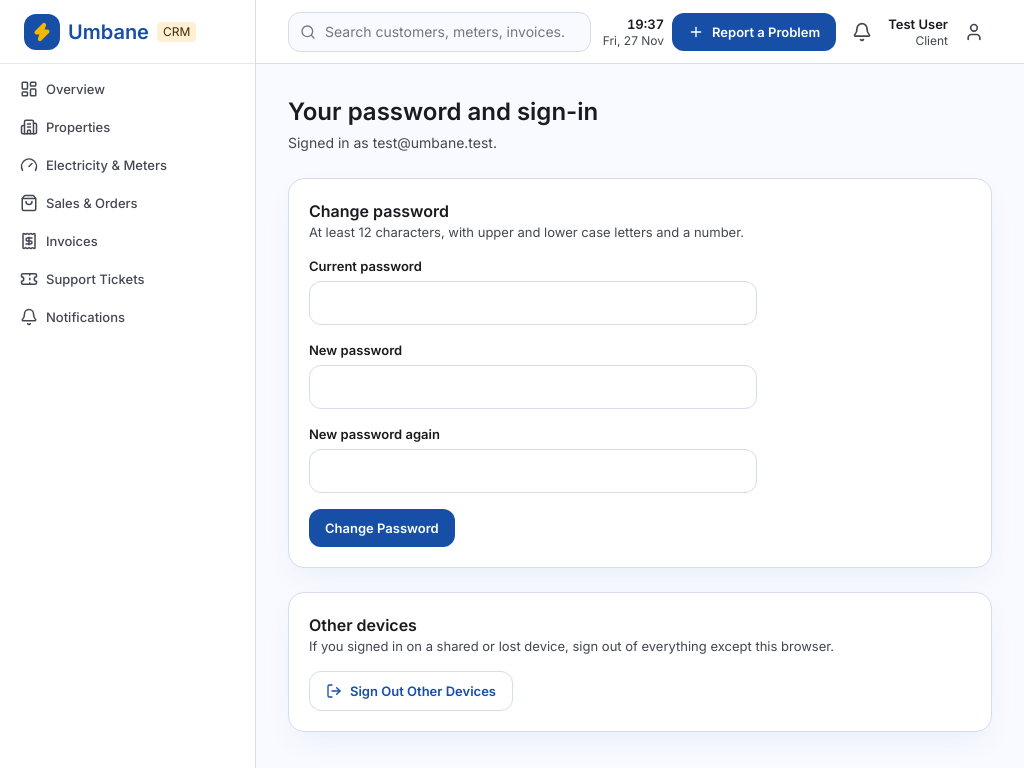
Test case: password and sign-in › is open to every role, and checks the new password first
Type "Old-pass-123" into the password field labelled "Current password" at [533, 303], box top-left (309, 281), bottom-right (757, 325)
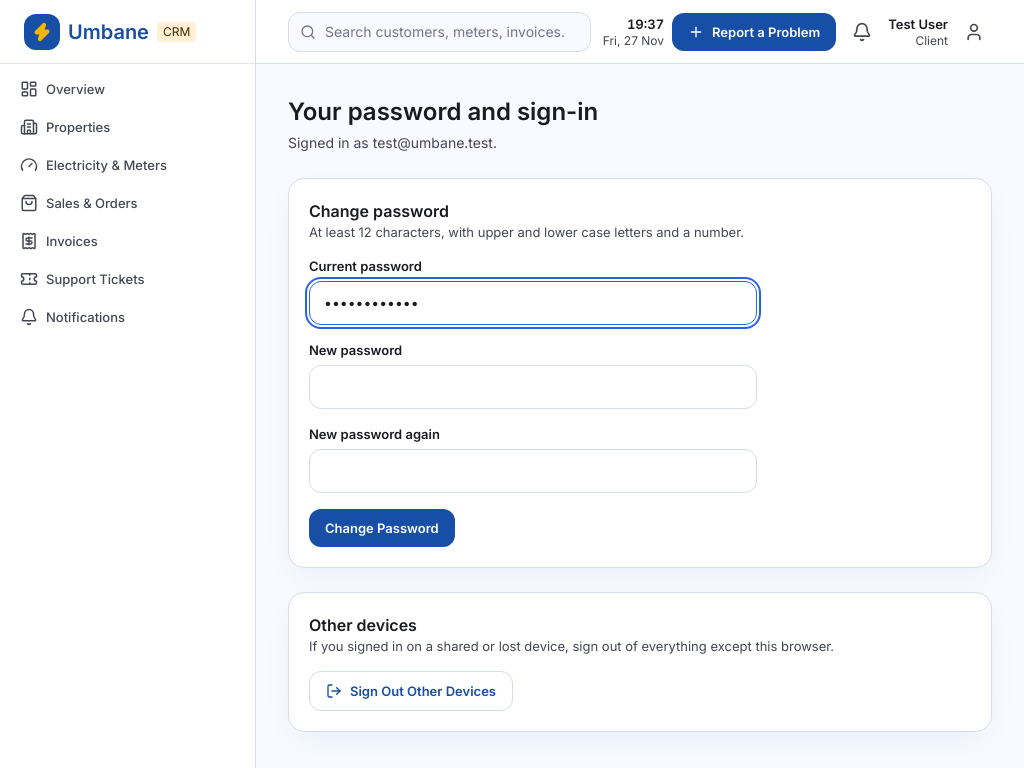
Type "short" into the password field labelled "New password" at [533, 387], box top-left (309, 365), bottom-right (757, 409)
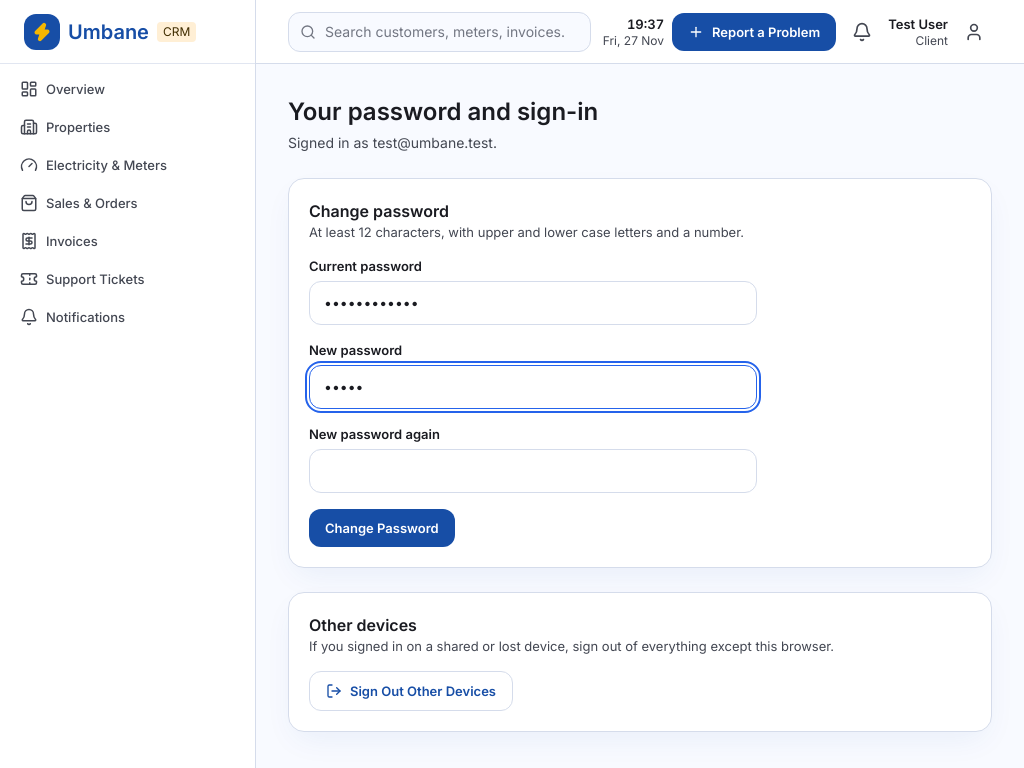
Click the button "Change Password" at [382, 528], box top-left (309, 509), bottom-right (455, 547)
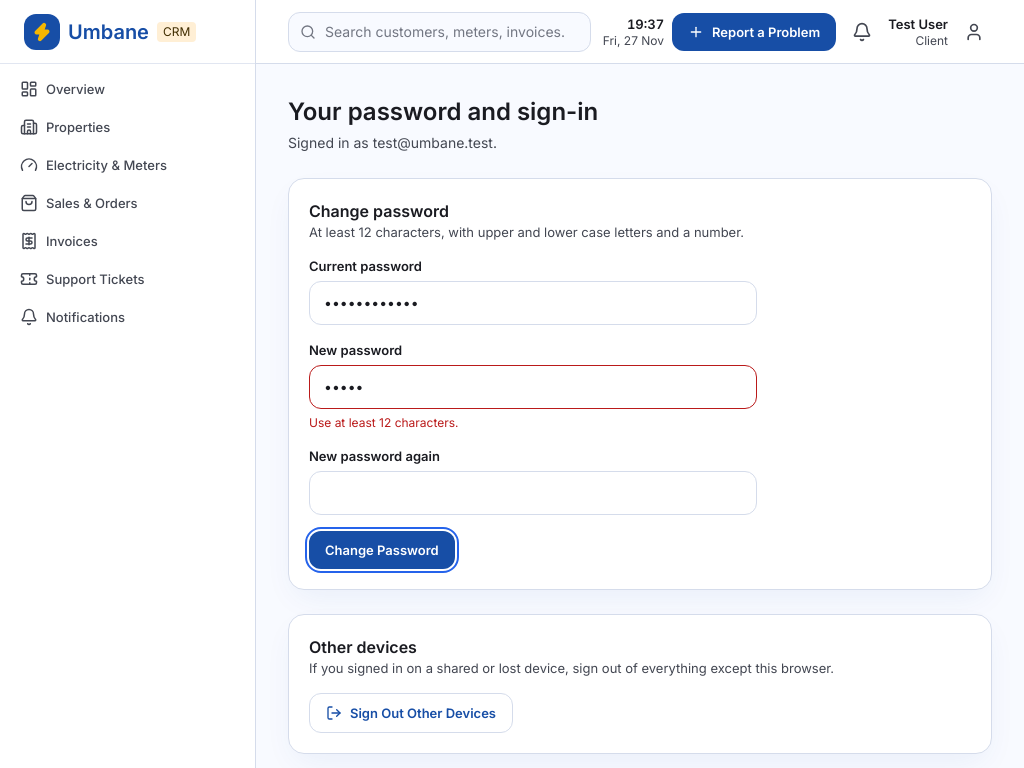
expect the text "Use at least 12 characters." is shown: met, box top-left (309, 415), bottom-right (459, 430)
